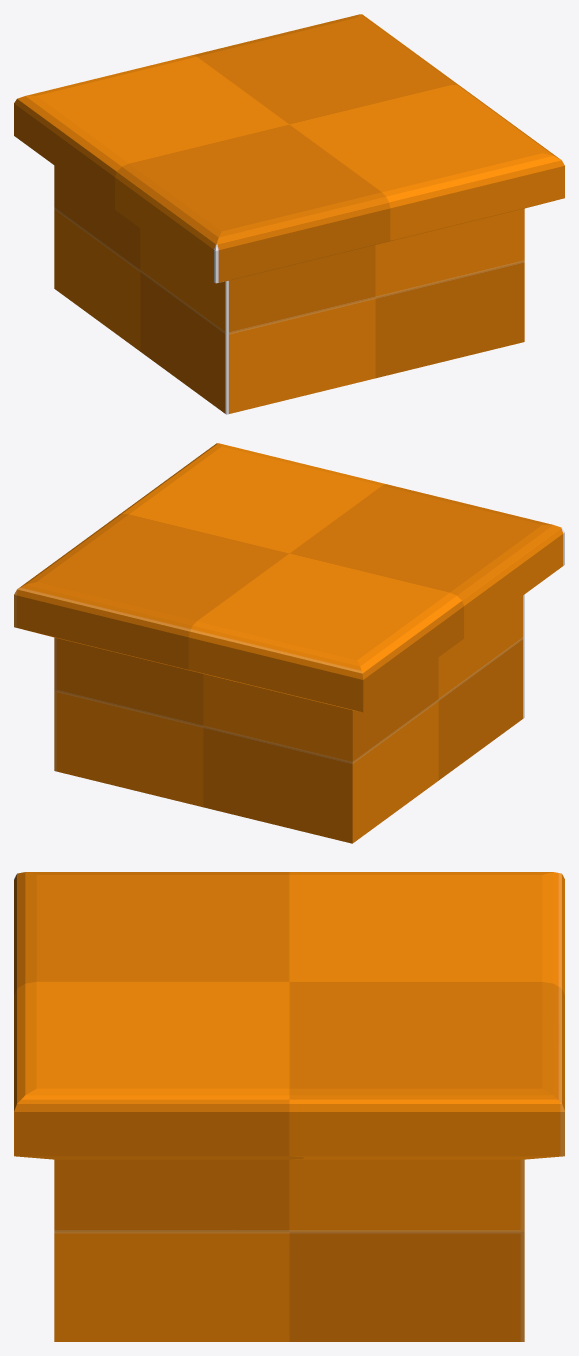
Rendered from desk_work.glb.
3 views of the same model, one above another, from view 1: azimuth 30°, elevation 25°; view 2: azimuth 150°, elevation 25°; view 3: azimuth 270°, elevation 25° (orthographic). The views are drawn at different scales.
Visible parts, largest first — view 1: Cube; view 2: Cube; view 3: Cube.
Boxes of the visible parts, box(x1,y1,x2,y2) form: Cube: box(14, 14, 564, 414); Cube: box(14, 443, 564, 843); Cube: box(14, 872, 564, 1341).
Size of the model in its own units: 2 by 1.04 by 2.
Materials: 1 (1 with a texture image).
